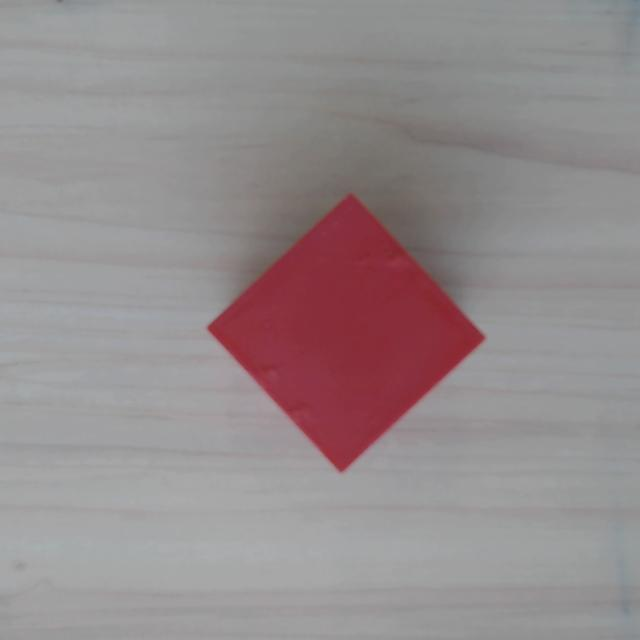Kubus-Merah-505050: (205, 192, 486, 472)
